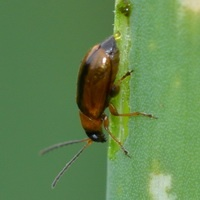insect: (41, 33, 156, 187)
